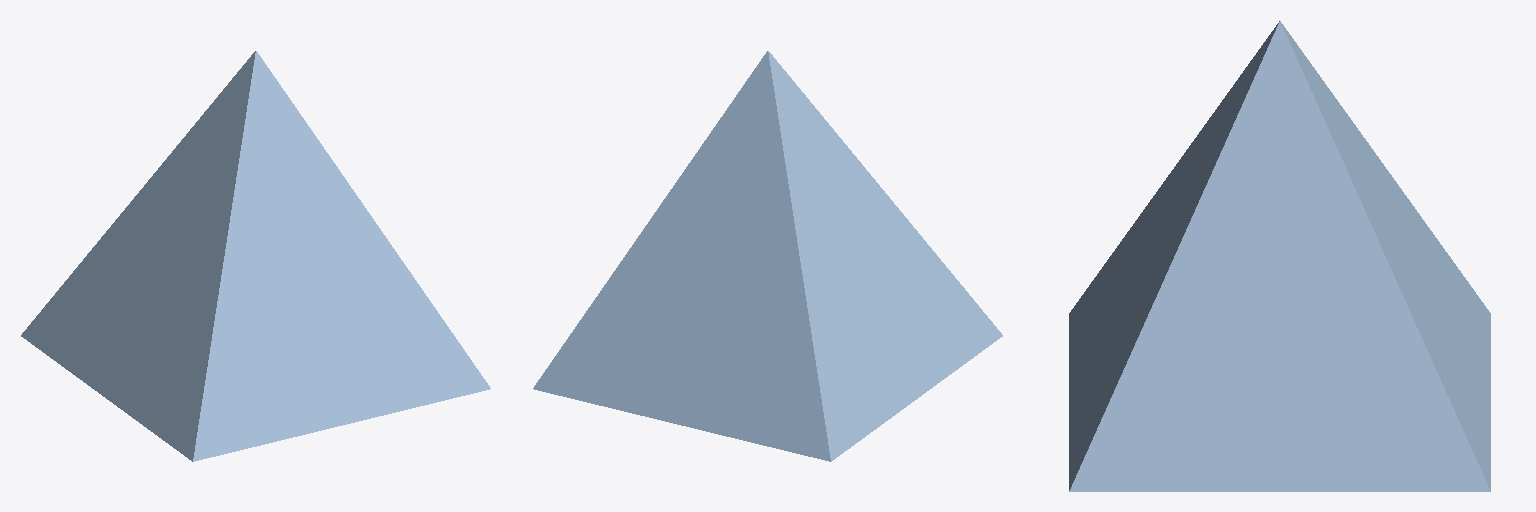
The robot description file, URDF, robot "pyramidmedium.urdf":
<?xml version="1.0" ?>
<robot name="pyramidmedium.urdf">
  <dynamics damping="0.5" friction="0.9"/>
  <link name="baseLink">
    <contact>
      <lateral_friction value="0.9"/>
      <rolling_friction value="0.5"/>
      <stiffness value="30000"/>
      <damping value="1000"/>
    </contact>
    <visual>
      <origin rpy="0 0 0" xyz="0 0 0"/>
      <geometry>
        <mesh filename="pyramidmedium/pyramidmedium.obj" scale="1.0 1.0 1.0"/>
      </geometry>
       <material name="mat">
        <color rgba="0.7 0.8 0.9 1"/>
      </material>
    </visual>
    <collision>
      <origin rpy="0 0 0" xyz="0 0 0"/>
      <geometry>
	 	<mesh filename="pyramidmedium/pyramidmedium.obj" scale="1.0 1.0 1.0"/>
      </geometry>
    </collision>
  </link>
</robot>

--- Facts derived from the render (not from the file) ---
The picture shows the robot from 3 angles, left to right: view 1: azimuth 30°, elevation 25°; view 2: azimuth 150°, elevation 25°; view 3: azimuth 270°, elevation 25°; orthographic projection.
Model pyramidmedium.urdf with 1 links and 0 joints (none), rooted at baseLink, posed every joint at zero.
Visible links, largest first — view 1: baseLink; view 2: baseLink; view 3: baseLink.
Link boxes in pixels (<box>): baseLink: <box>21,51,490,461</box>; baseLink: <box>533,51,1002,461</box>; baseLink: <box>1069,21,1490,491</box>.
Size in the robot's own frame: 0.08 by 0.08 by 0.08 metres.
1 mesh visuals loaded from 1 distinct referenced files (1 OBJ).
